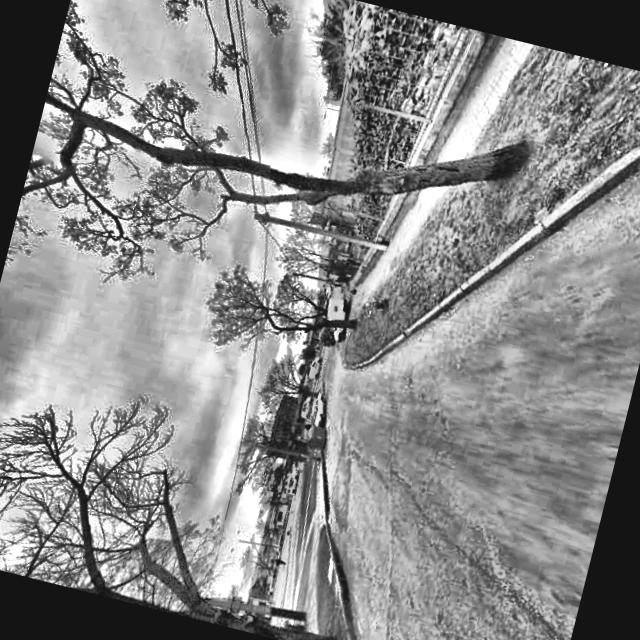Dustbin: (302, 418, 334, 453)
